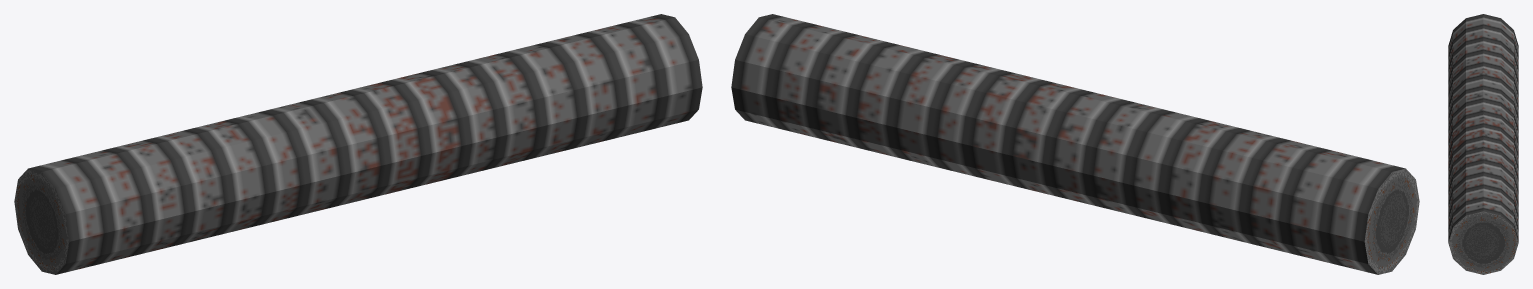
File: LowPolyScewModel.fbx
3 renders of one model, left to right at view 1: azimuth 30°, elevation 25°; view 2: azimuth 150°, elevation 25°; view 3: azimuth 270°, elevation 25°, orthographic. The views are drawn at different scales.
Visible parts, largest first — view 1: Cylinder.001; view 2: Cylinder.001; view 3: Cylinder.001.
Boxes of the visible parts, x1=… form: Cylinder.001: x1=14, y1=14, x2=702, y2=274; Cylinder.001: x1=731, y1=14, x2=1419, y2=274; Cylinder.001: x1=1448, y1=14, x2=1518, y2=274.
Size of the model in its own units: 884 by 133 by 133.
1 material, 1 textured.
